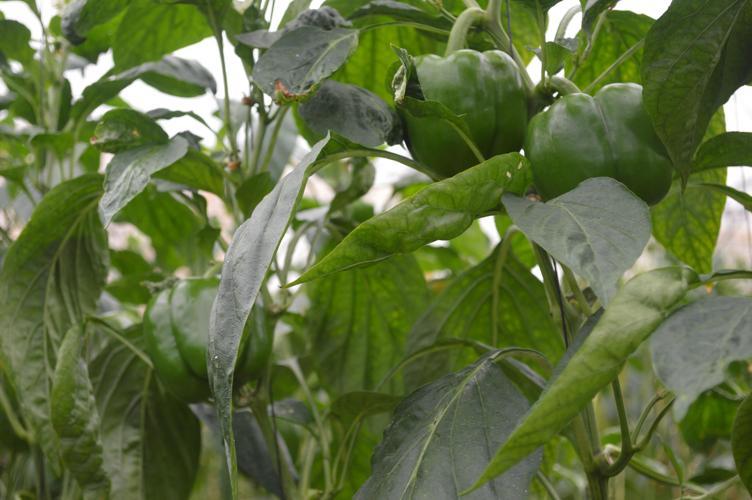BellPepper: (529, 81, 673, 197), (395, 49, 519, 177), (140, 281, 270, 397)
